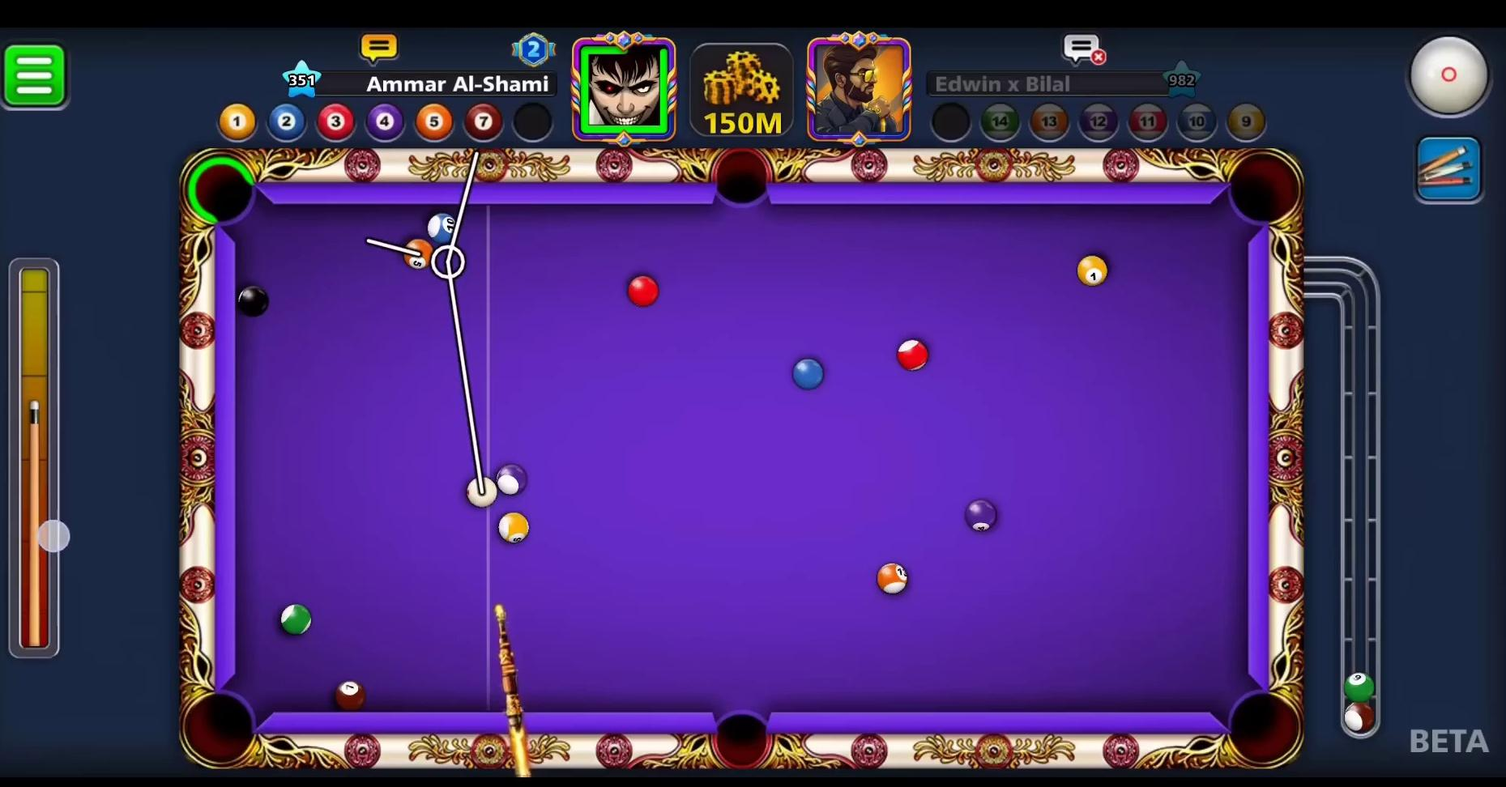Ball: (418, 200, 469, 251), (785, 351, 835, 400), (229, 282, 282, 322), (489, 456, 535, 500), (866, 563, 922, 599), (1069, 246, 1109, 294), (891, 333, 932, 377), (326, 672, 371, 712), (397, 236, 439, 277), (964, 493, 1003, 535), (495, 510, 538, 546), (275, 602, 321, 635), (623, 272, 664, 309)
Force: (8, 249, 68, 666)
Guideline: (365, 145, 490, 495)
Hole: (171, 137, 273, 244), (1206, 666, 1308, 772), (166, 681, 274, 774), (696, 684, 789, 773), (1219, 145, 1310, 235), (698, 141, 783, 222)
Play_Area: (238, 206, 1251, 713)
Spin: (1396, 23, 1496, 135)
White: (457, 472, 509, 510)
